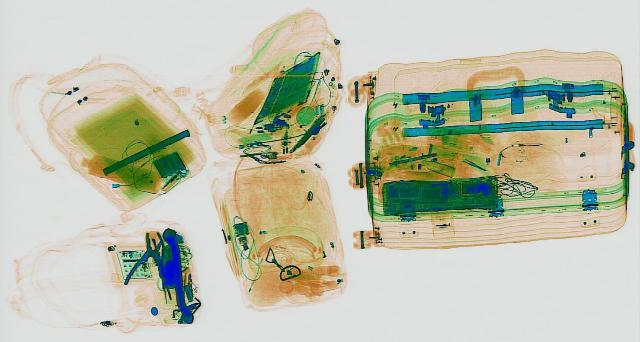Pliers: (120, 230, 180, 283)
Wrench: (160, 227, 194, 322)
